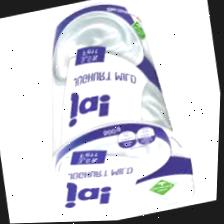plastic: (41, 2, 198, 220)
